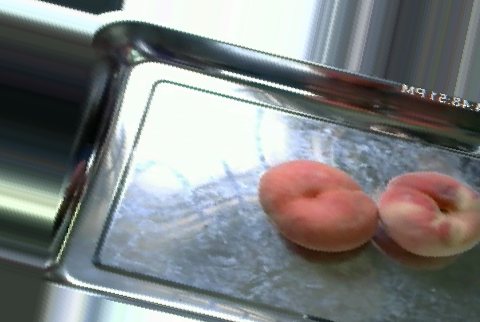Peach: (258, 158, 376, 252), (375, 171, 479, 258)
